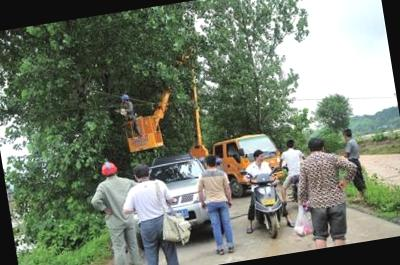no_helmet: (303, 132, 328, 158), (129, 161, 155, 185), (199, 151, 219, 171), (339, 124, 356, 142), (250, 147, 266, 164), (282, 136, 298, 151)
